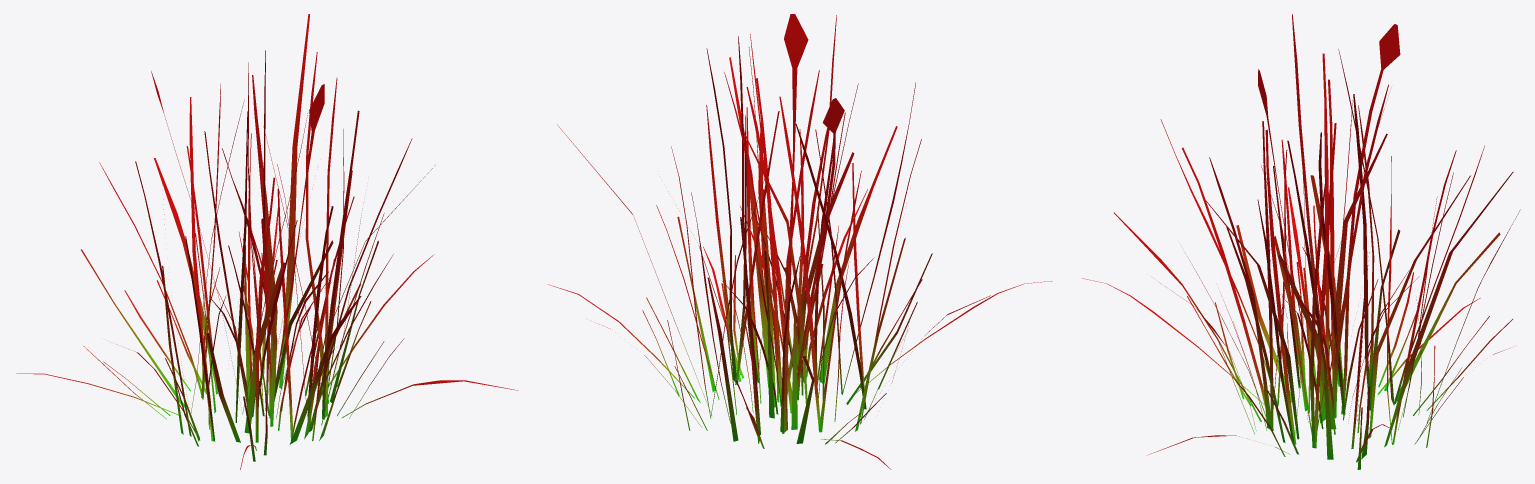
Rendered from ueyoebmia_Var10_LOD2.fbx.
3 views of the same model, side by side, from view 1: azimuth 30°, elevation 25°; view 2: azimuth 150°, elevation 25°; view 3: azimuth 270°, elevation 25° (orthographic). The views are drawn at different scales.
Visible parts, largest first — view 1: _b12b_Var10_LOD2; view 2: _b12b_Var10_LOD2; view 3: _b12b_Var10_LOD2.
Part boxes in pixels (x1,y1,x2,y2): _b12b_Var10_LOD2: (16,14,518,469); _b12b_Var10_LOD2: (548,14,1052,469); _b12b_Var10_LOD2: (1082,14,1520,469).
Size of the model in its own units: 39.76 by 37.65 by 37.96.
